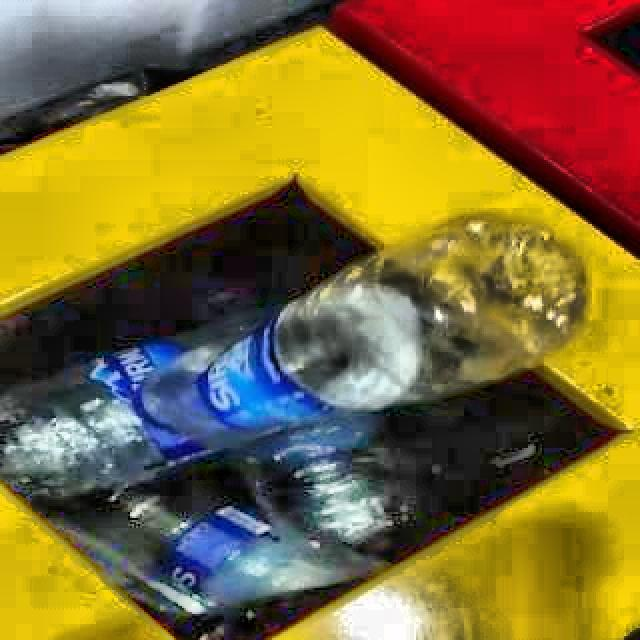plastic: (0, 215, 587, 550)
